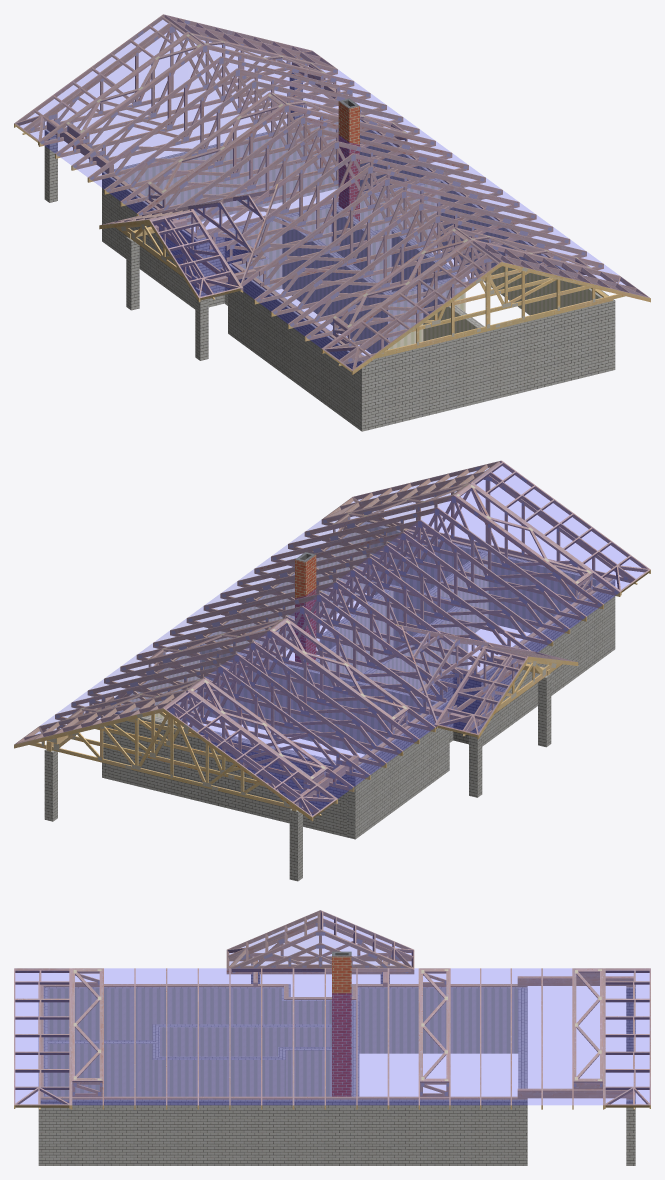
3 views of the same model, one above another, from view 1: azimuth 30°, elevation 25°; view 2: azimuth 150°, elevation 25°; view 3: azimuth 270°, elevation 25° (orthographic). The views are drawn at different scales.
Parts seen in each view (by area): view 1: skfb_offset; view 2: skfb_offset; view 3: skfb_offset.
Part boxes in pixels (box(x1,y1,x2,y2)): skfb_offset: box(14, 14, 650, 431); skfb_offset: box(14, 460, 650, 881); skfb_offset: box(14, 910, 650, 1165).
Size of the model in its own units: 12030 by 5900 by 20816.
Materials: 11 (10 with a texture image).
